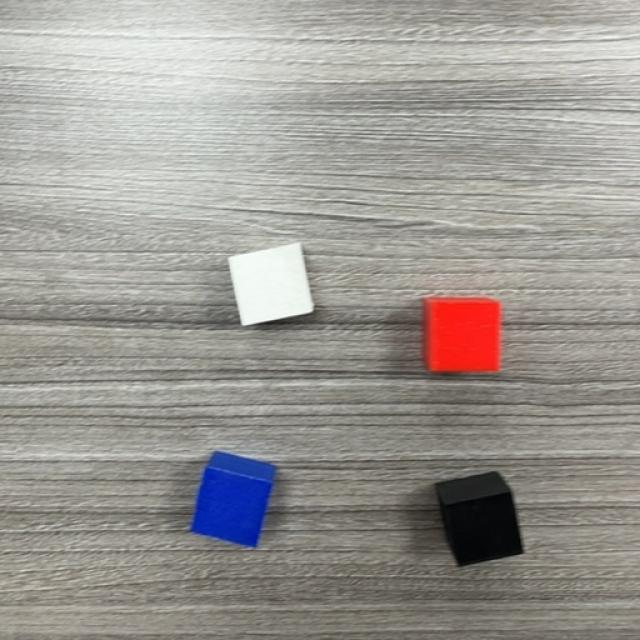Azul: (192, 452, 278, 551)
Blanco: (229, 244, 314, 328)
Negro: (445, 490, 528, 567)
Rojo: (422, 298, 504, 375)
